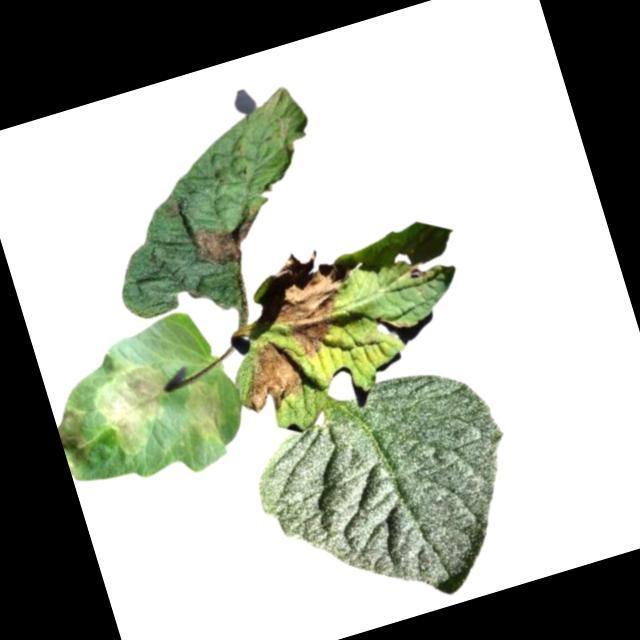Late_blight: (260, 240, 375, 365), (84, 354, 184, 460), (234, 333, 311, 420), (185, 207, 271, 273), (174, 373, 233, 446), (52, 400, 101, 468), (401, 258, 429, 282)
healthy: (238, 353, 540, 639)
